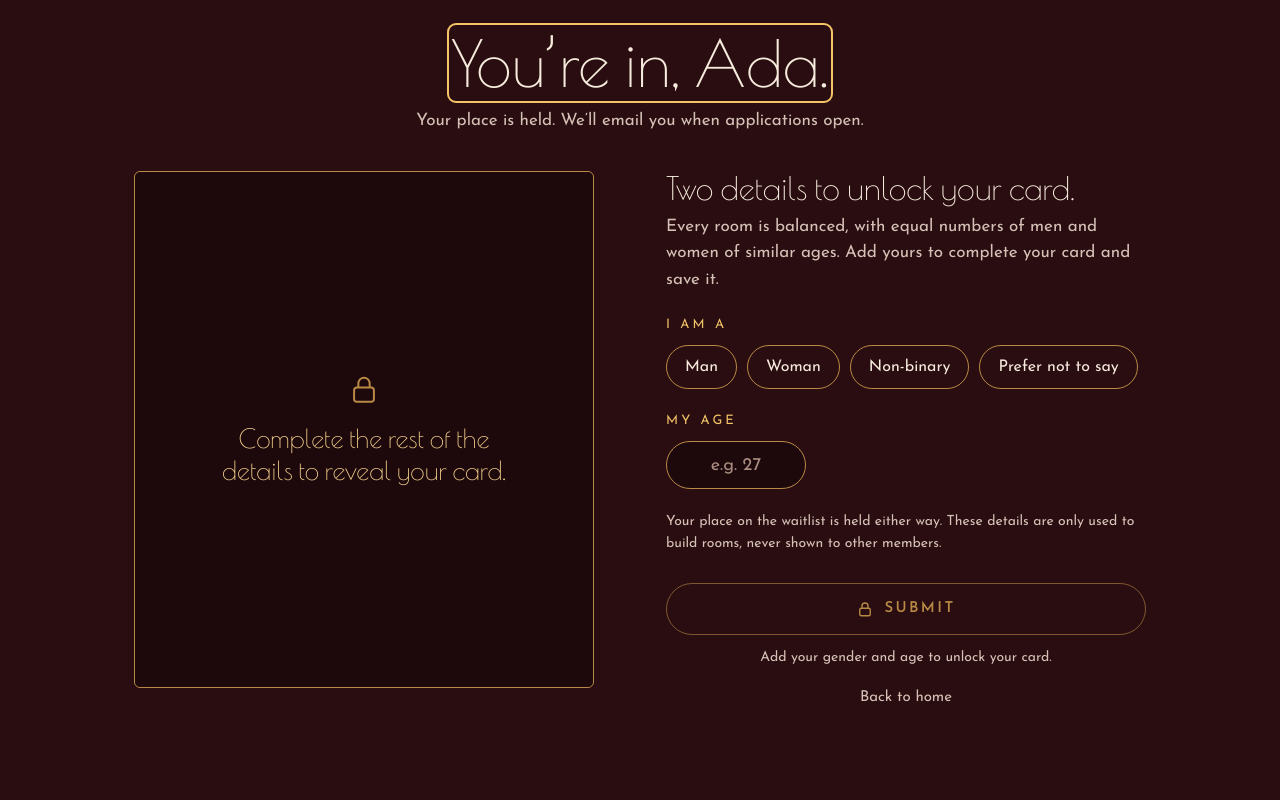
Scenario: ConfirmationView › keeps the card covered when registration is rejected, and says why
The width and height of the screenshot is (1280, 800).
Click the button "Woman" at (794, 367), box top-left (747, 345), bottom-right (840, 389)
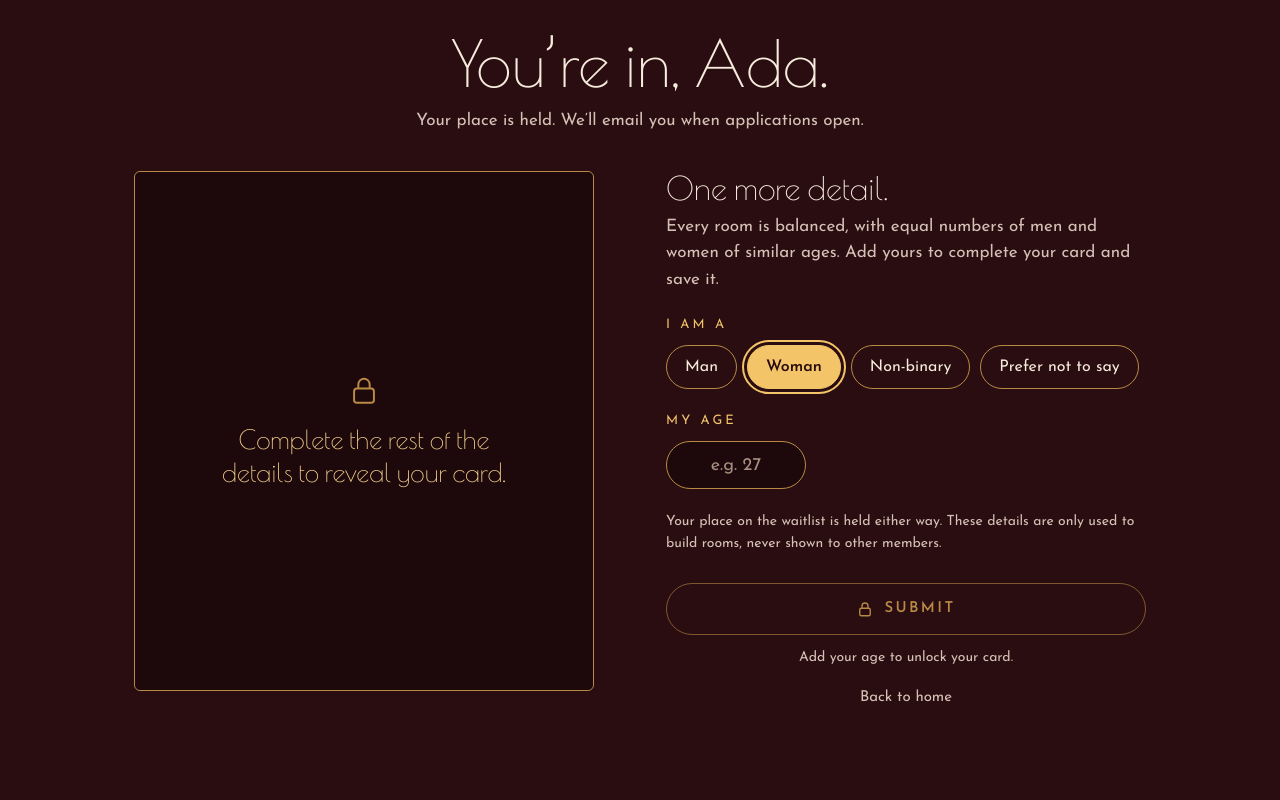
Type "30" into the field labelled "MY AGE" at (736, 465), box top-left (666, 441), bottom-right (806, 489)
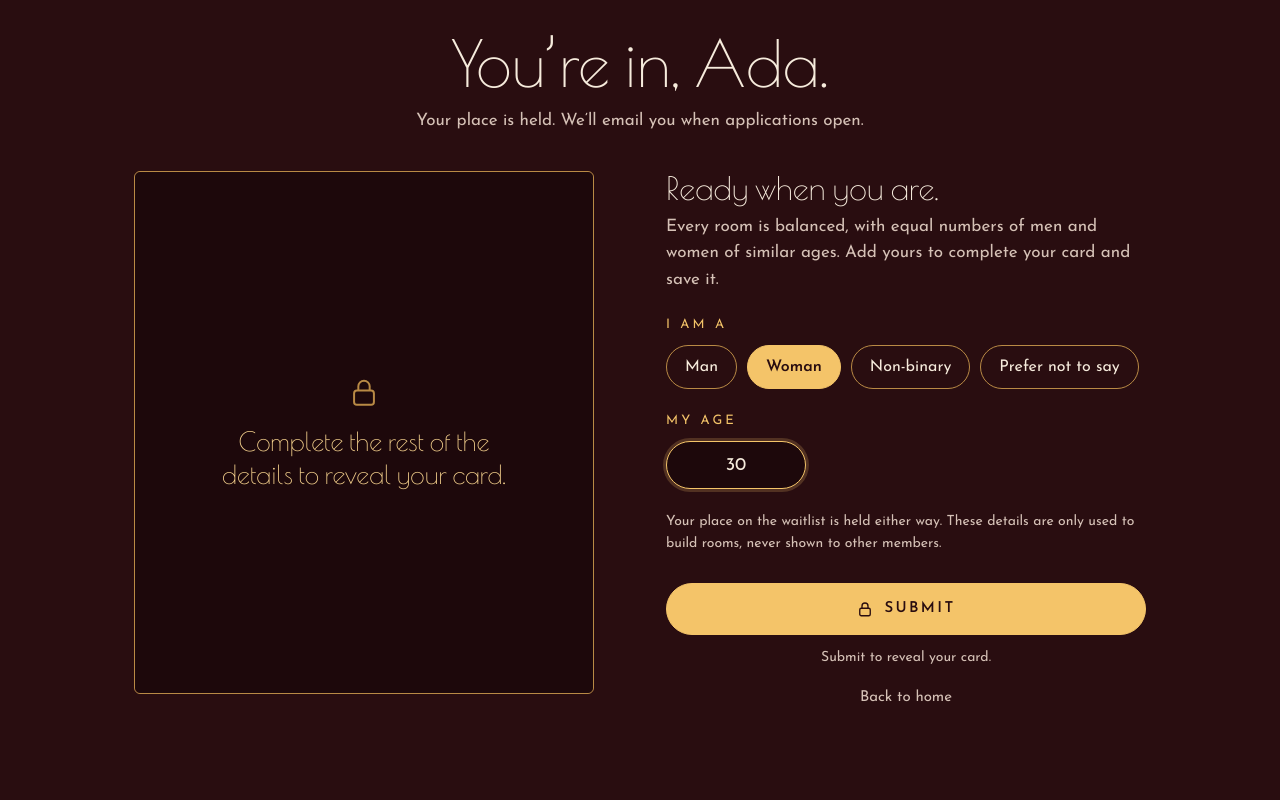
Click the button "Submit" at (906, 609), box top-left (666, 583), bottom-right (1146, 635)
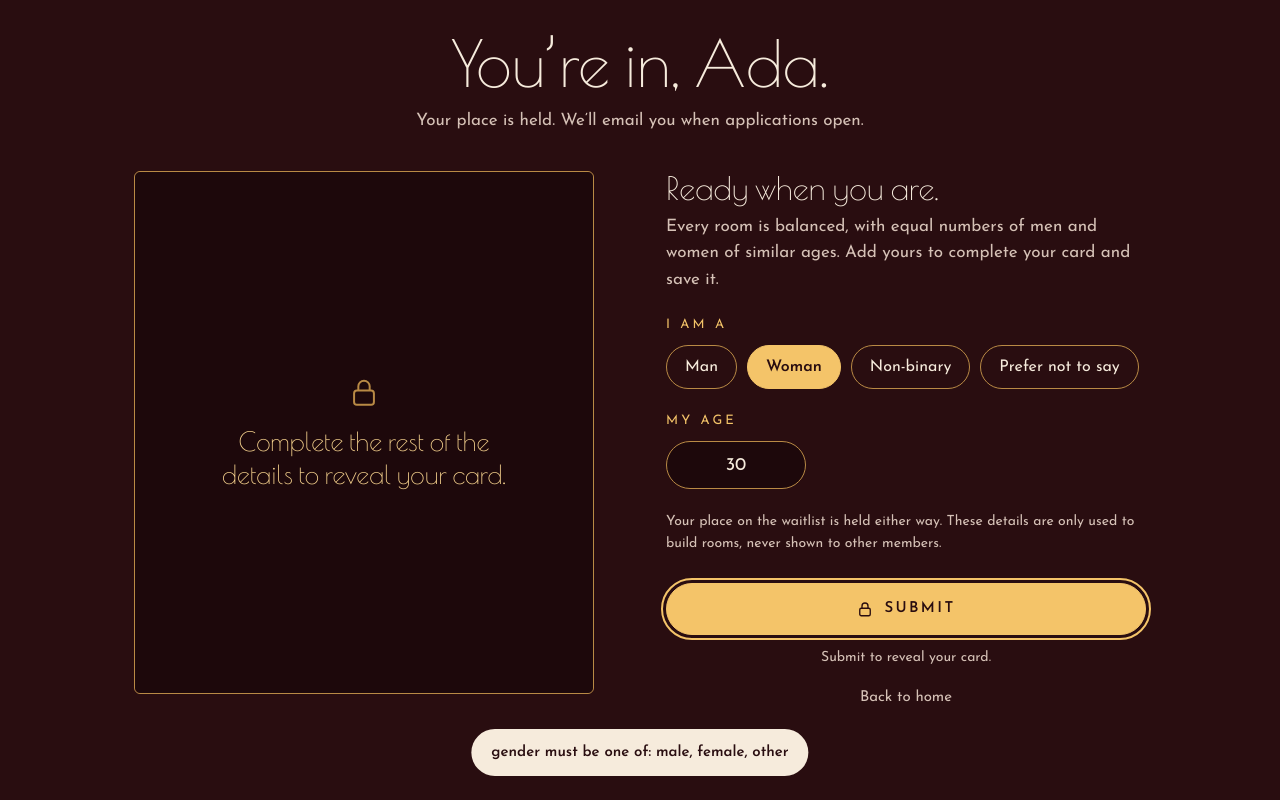
Expected: the text "Complete the rest of the details to reveal your card." is shown, top-left (222, 426), bottom-right (506, 488)
Expected: the message reads "gender must be one of: male, female, other", top-left (491, 745), bottom-right (789, 760)
